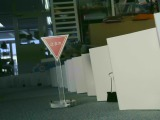stop: (39, 33, 72, 62)
